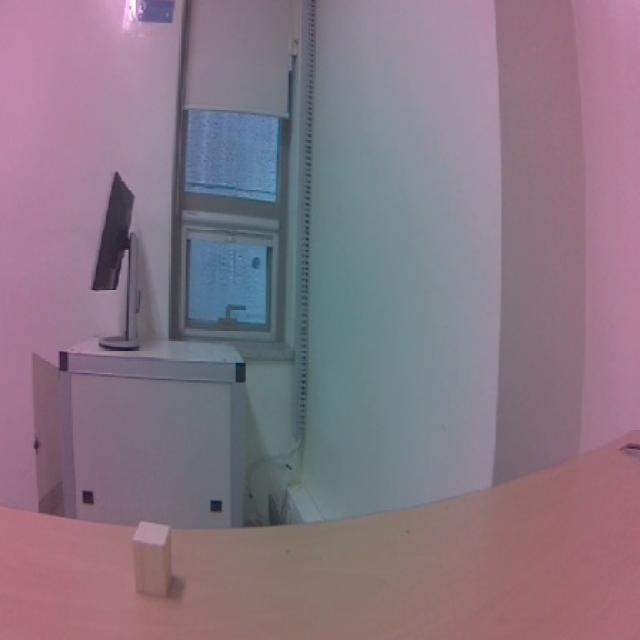obstacle: (123, 516, 189, 606)
